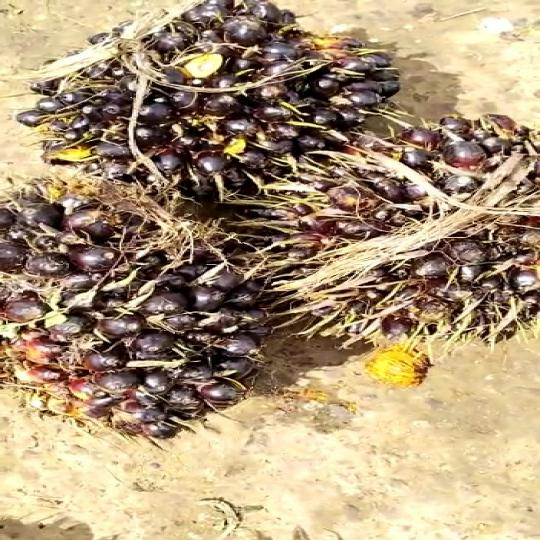mentah: (1, 0, 416, 195), (0, 185, 288, 452), (241, 113, 540, 347)
